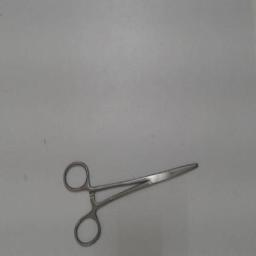Mayo Needle Holder: (58, 152, 206, 250)
